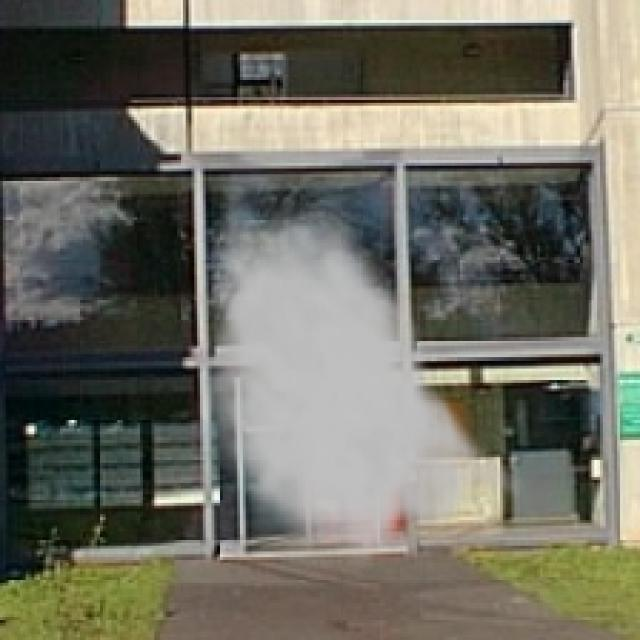Smoke: (192, 180, 534, 577)
